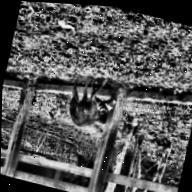boar: (65, 71, 121, 135)
